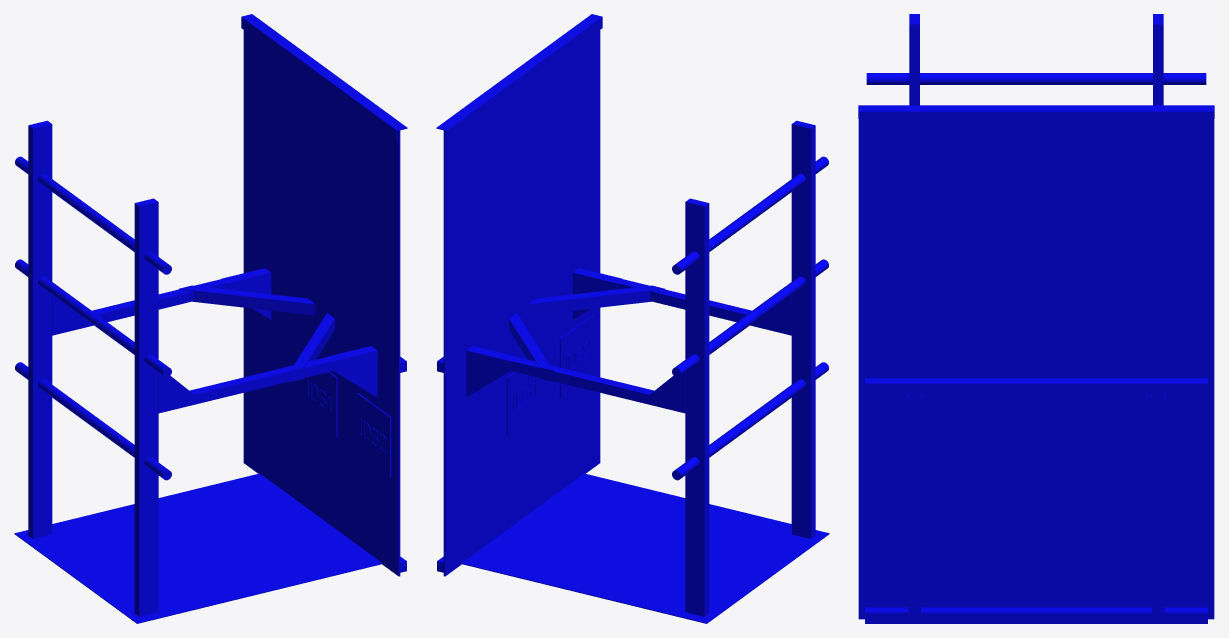
The model's file is BLOCK CAD FIELD - BLOCK CAD- TOWER, BLUE.gltf.
3 views of the same model, side by side, from view 1: azimuth 30°, elevation 25°; view 2: azimuth 150°, elevation 25°; view 3: azimuth 270°, elevation 25° (orthographic). The views are drawn at different scales.
Parts seen in each view (by area): view 1: BLOCK CAD: TOWER, BLUE; view 2: BLOCK CAD: TOWER, BLUE; view 3: BLOCK CAD: TOWER, BLUE.
Part boxes in pixels (x1,y1,x2,y2): BLOCK CAD: TOWER, BLUE: (14,14,407,623); BLOCK CAD: TOWER, BLUE: (436,14,829,623); BLOCK CAD: TOWER, BLUE: (858,14,1214,623).
Size of the model in its own units: 1.19 by 1.99 by 1.25.
